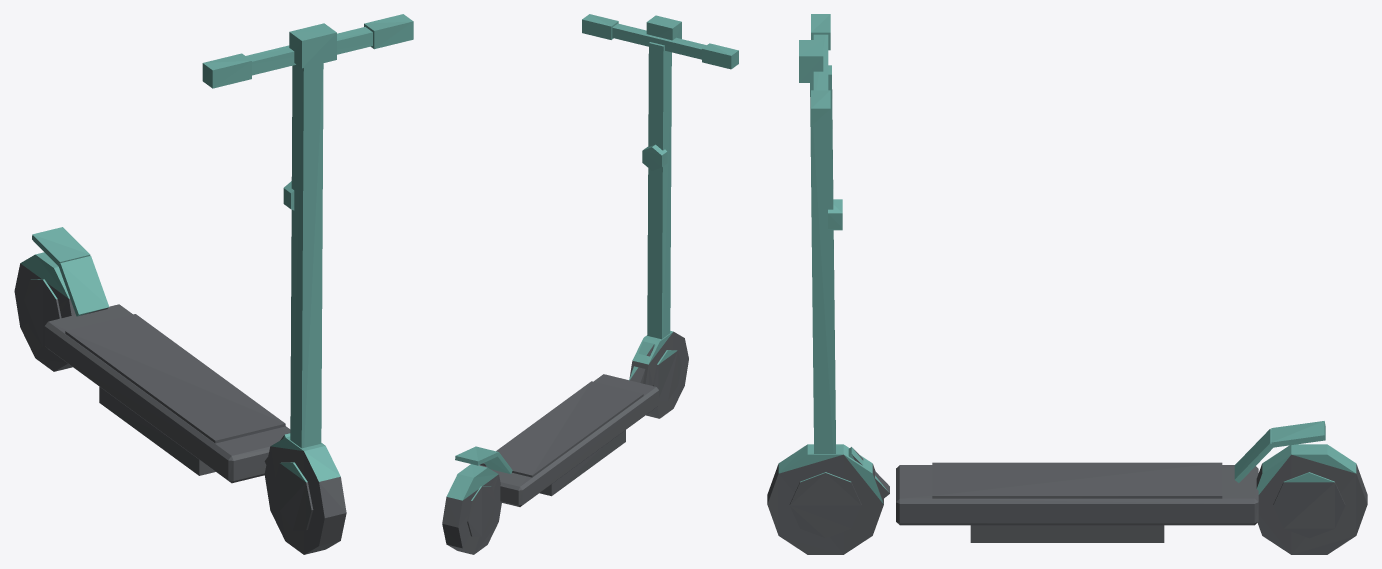
The model's file is scooter-00.glb.
3 views of the same model, side by side, from view 1: azimuth 30°, elevation 25°; view 2: azimuth 150°, elevation 25°; view 3: azimuth 270°, elevation 25° (orthographic). The views are drawn at different scales.
Parts seen in each view (by area): view 1: scooter_00; view 2: scooter_00; view 3: scooter_00.
Part boxes in pixels (box(x1,y1,x2,y2)): scooter_00: box(14, 14, 413, 554); scooter_00: box(442, 14, 738, 554); scooter_00: box(767, 14, 1367, 554).
Bounding box in the file's own units: 0.4594 × 1.13 × 1.23.
